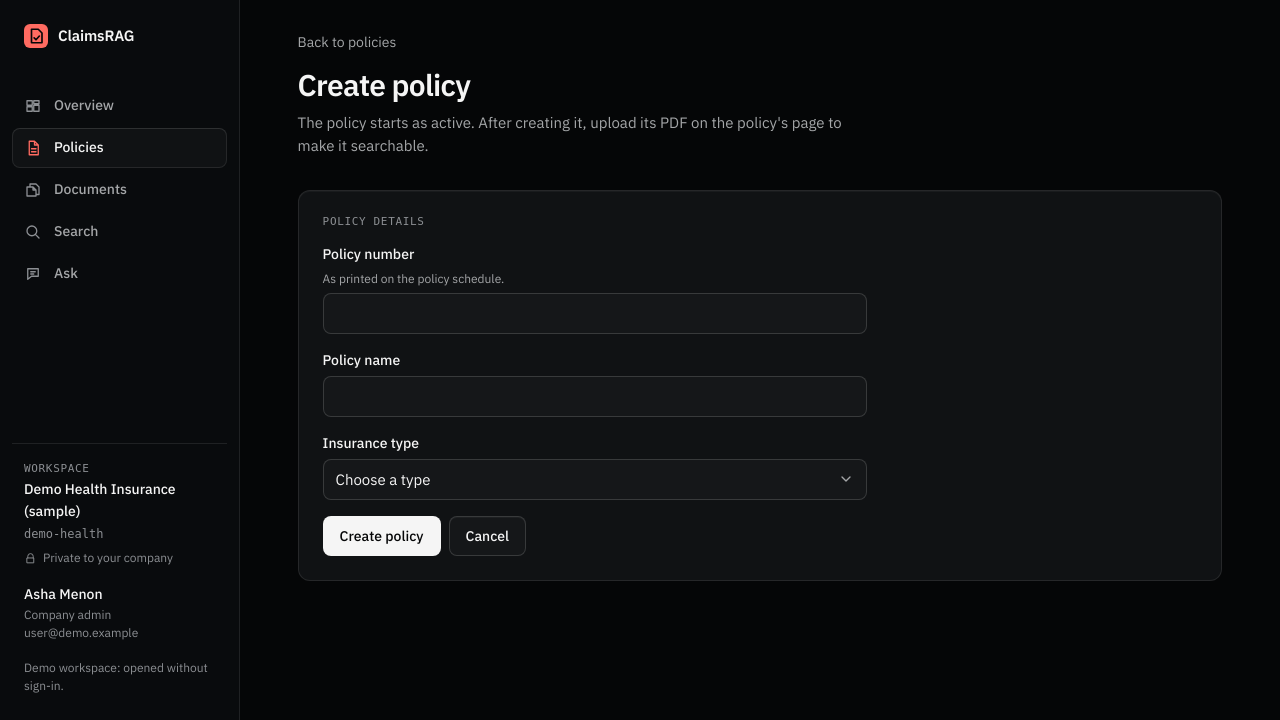
Test: creating a policy › shows field errors next to the fields and sends nothing
The image size is (1280, 720).
Click the button "Create policy" at (382, 536), box [323,516,440,556]
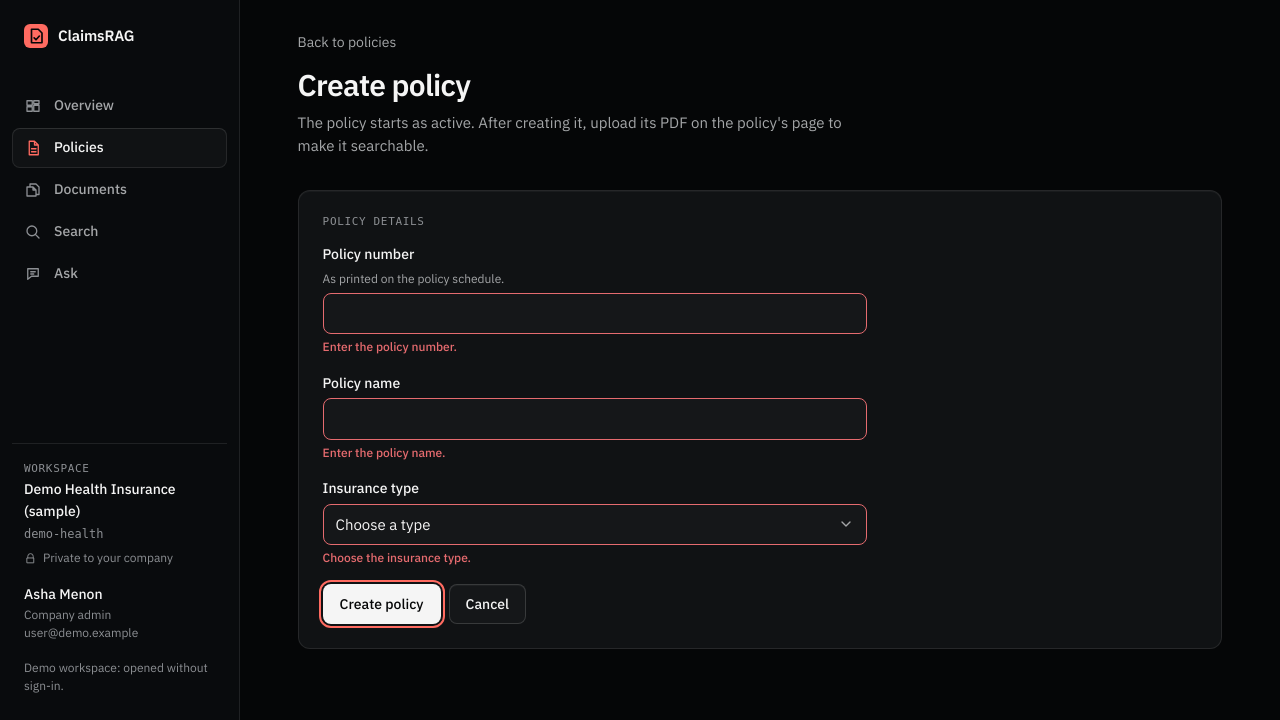
Expected: the text "Choose the insurance type." is shown, [323,550,471,565]
